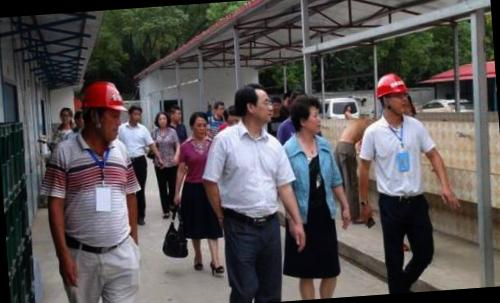no_helmet: (230, 80, 274, 131), (290, 95, 325, 138), (187, 110, 211, 139), (125, 103, 145, 125), (56, 104, 74, 126), (210, 100, 228, 120), (168, 102, 184, 124), (152, 110, 170, 128)
